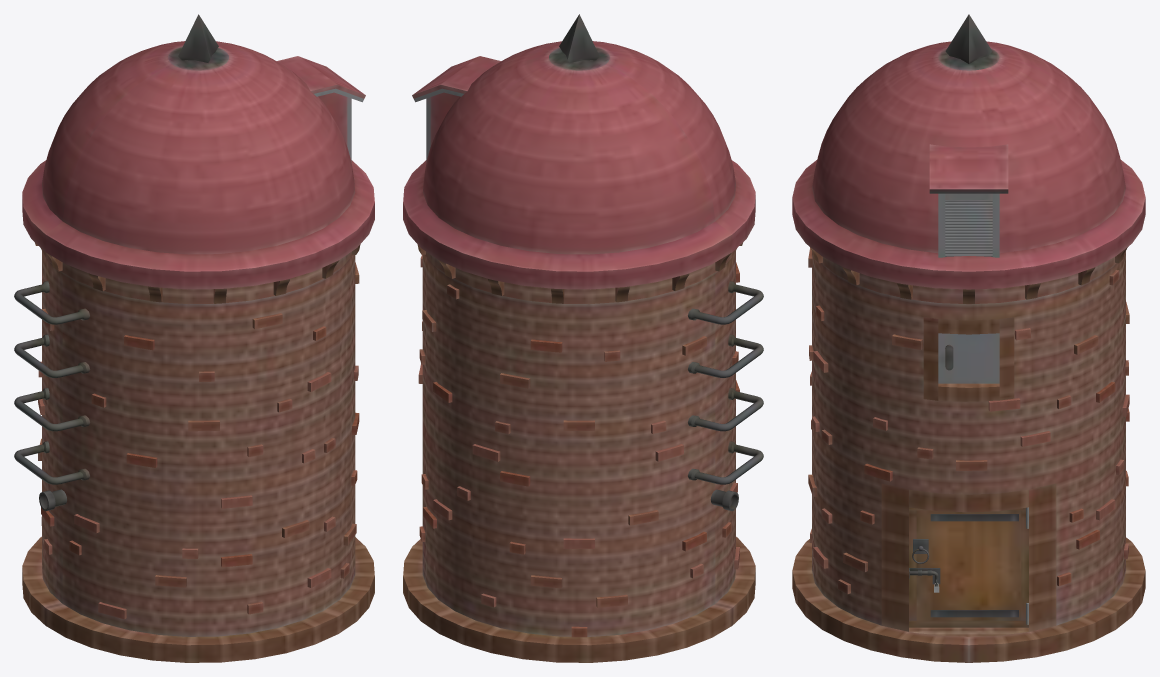
Rendered from SM_Silo_1f1810.glb.
3 renders of one model, left to right at view 1: azimuth 30°, elevation 25°; view 2: azimuth 150°, elevation 25°; view 3: azimuth 270°, elevation 25°, orthographic.
Size of the model in its own units: 2.27 by 3.88 by 2.16.
Materials: 1 (1 with a texture image).
